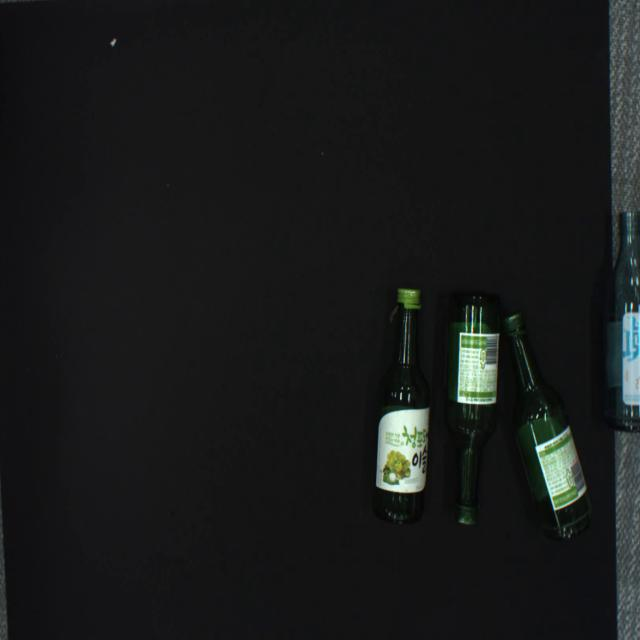soju-bottle: (503, 313, 592, 541), (370, 288, 430, 525), (444, 292, 502, 525), (603, 210, 640, 433)
